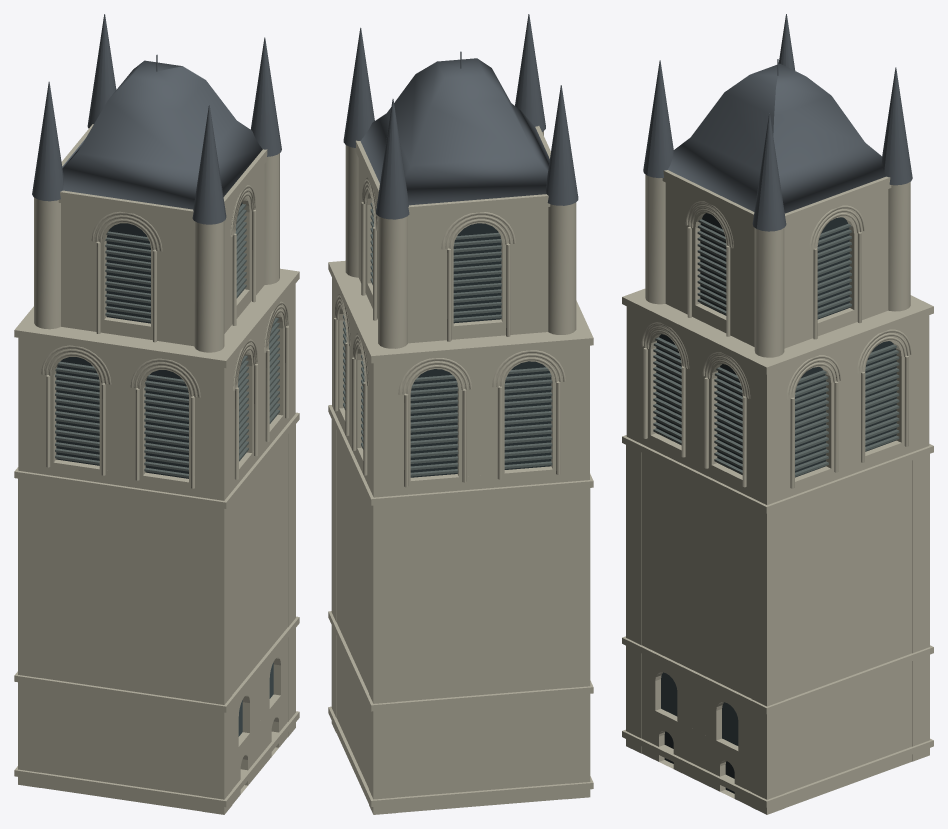
The model's file is tour-saint-aubin-angers-near.glb.
3 renders of one model, left to right at view 1: azimuth 30°, elevation 25°; view 2: azimuth 150°, elevation 25°; view 3: azimuth 270°, elevation 25°, orthographic. The views are drawn at different scales.
Parts seen in each view (by area): view 1: tour-saint-aubin-angers-0-plaster, tour-saint-aubin-angers-0-roof, tour-saint-aubin-angers-0-louvre, tour-saint-aubin-angers-0-shadow; view 2: tour-saint-aubin-angers-0-plaster, tour-saint-aubin-angers-0-roof, tour-saint-aubin-angers-0-louvre, tour-saint-aubin-angers-0-shadow; view 3: tour-saint-aubin-angers-0-plaster, tour-saint-aubin-angers-0-roof, tour-saint-aubin-angers-0-louvre, tour-saint-aubin-angers-0-shadow, tour-saint-aubin-angers-0-glass.
Part boxes in pixels (bbox=[...]): tour-saint-aubin-angers-0-plaster: bbox=[14, 124, 299, 814]; tour-saint-aubin-angers-0-roof: bbox=[32, 14, 281, 224]; tour-saint-aubin-angers-0-louvre: bbox=[55, 204, 279, 477]; tour-saint-aubin-angers-0-shadow: bbox=[56, 202, 242, 478]; tour-saint-aubin-angers-0-plaster: bbox=[328, 126, 593, 814]; tour-saint-aubin-angers-0-roof: bbox=[343, 14, 578, 219]; tour-saint-aubin-angers-0-louvre: bbox=[343, 198, 552, 476]; tour-saint-aubin-angers-0-shadow: bbox=[410, 223, 551, 477]; tour-saint-aubin-angers-0-plaster: bbox=[622, 170, 933, 814]; tour-saint-aubin-angers-0-roof: bbox=[643, 14, 912, 231]; tour-saint-aubin-angers-0-louvre: bbox=[653, 219, 899, 476]; tour-saint-aubin-angers-0-shadow: bbox=[656, 213, 896, 793]; tour-saint-aubin-angers-0-glass: bbox=[661, 672, 738, 745].
Bounding box in the file's own units: 22.08 × 54 × 22.08.
